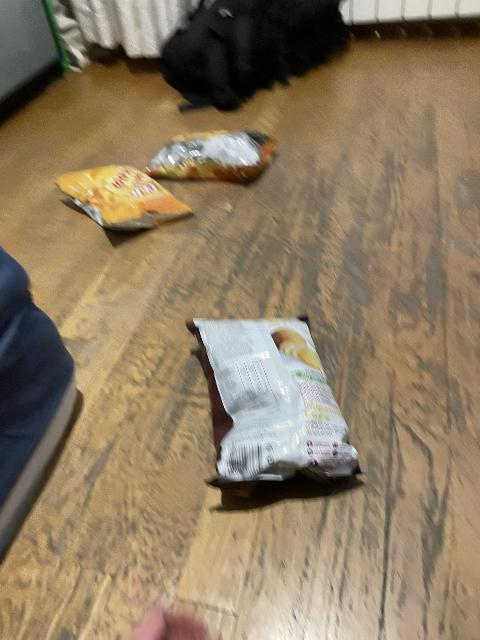Chio Cascaval 125g: (145, 129, 275, 182)
Chio Hula Hoops Cheese 70g: (55, 164, 196, 230)
Lays Beef Grilled Ribs 125g: (188, 315, 359, 490)
